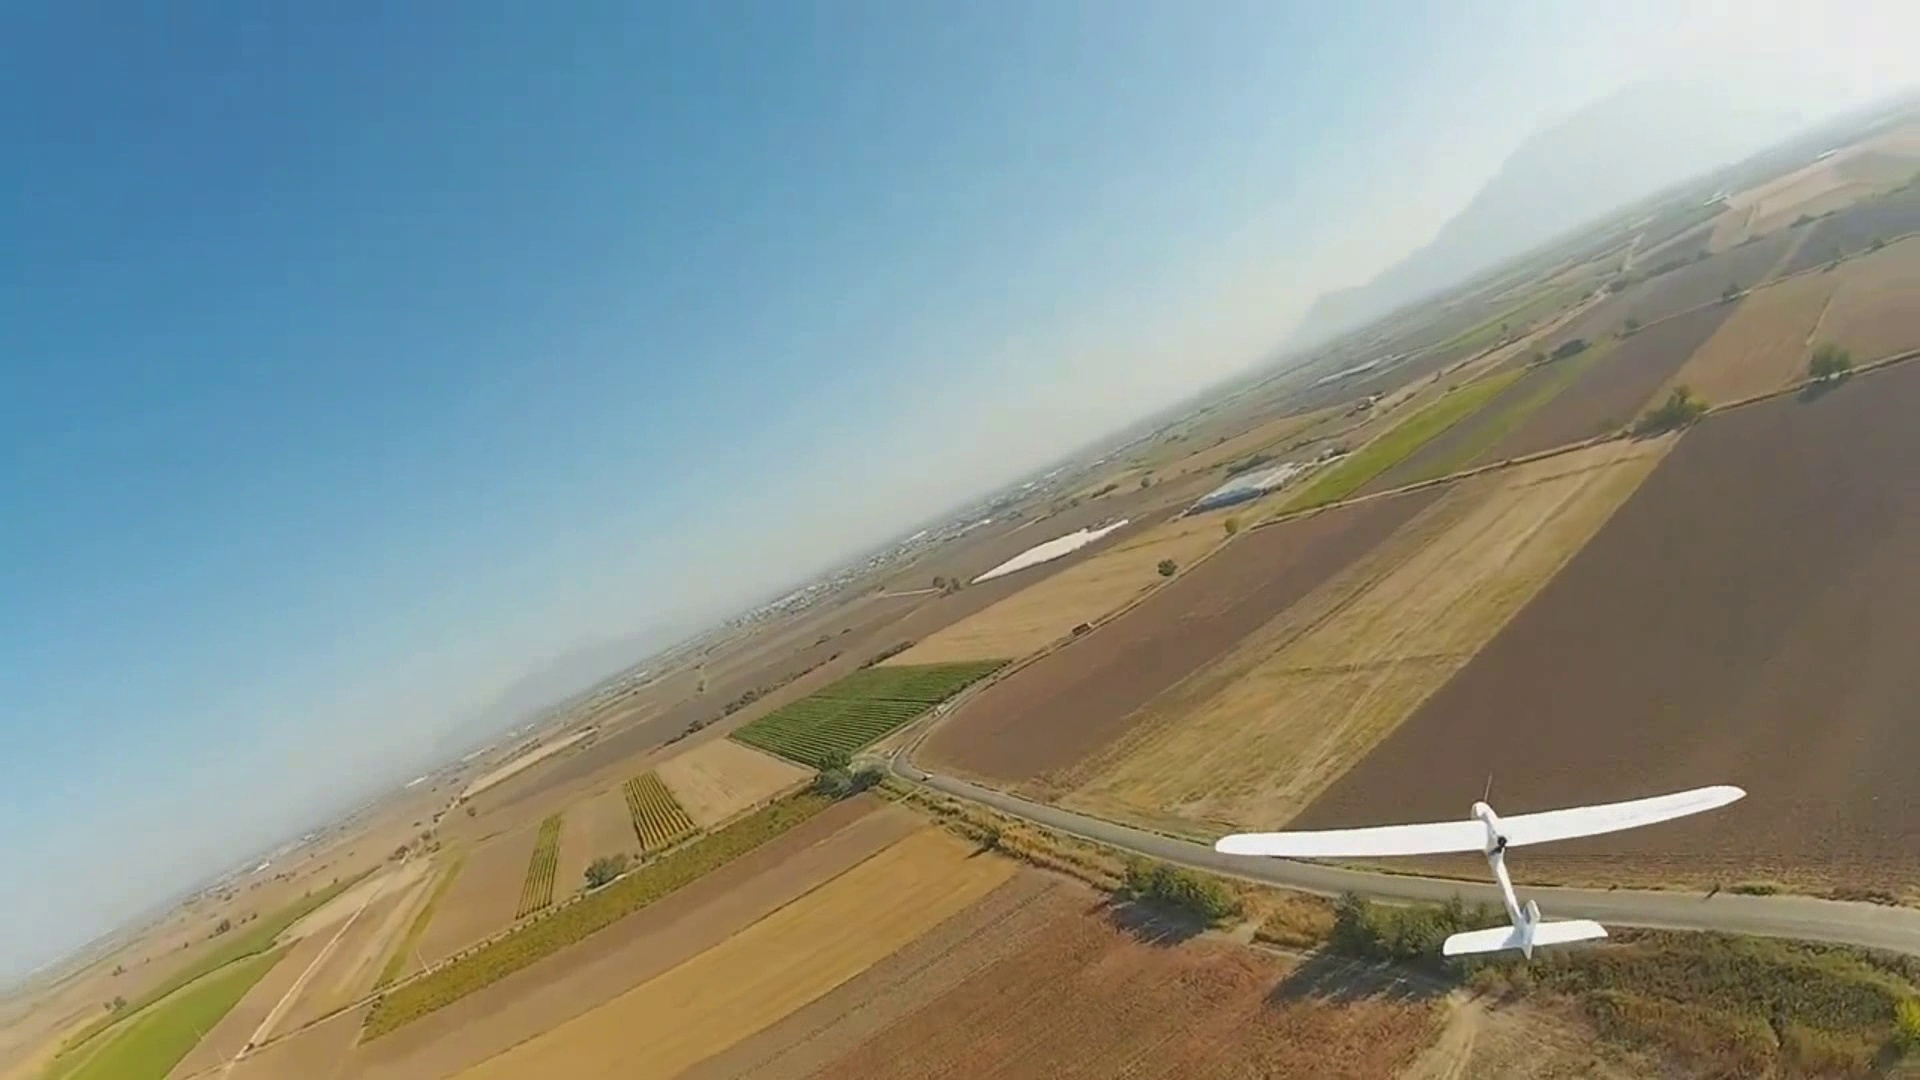airplane: (35, 65, 1916, 964), (1190, 777, 1744, 958)
